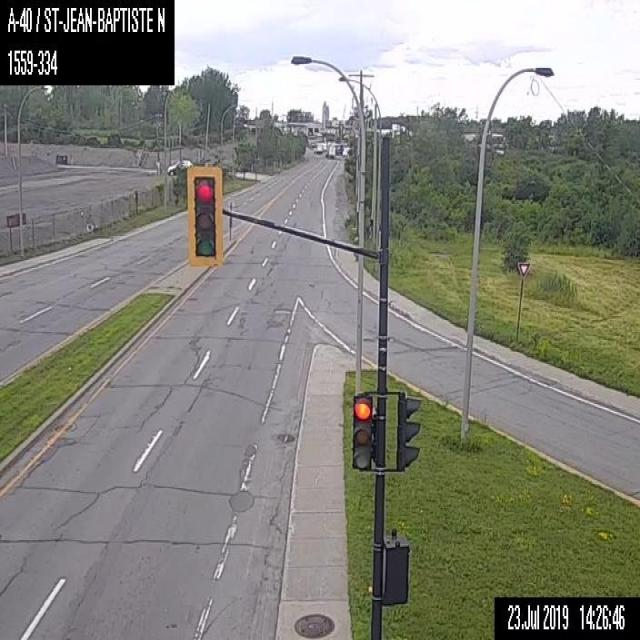vehicle: (166, 160, 192, 174)
